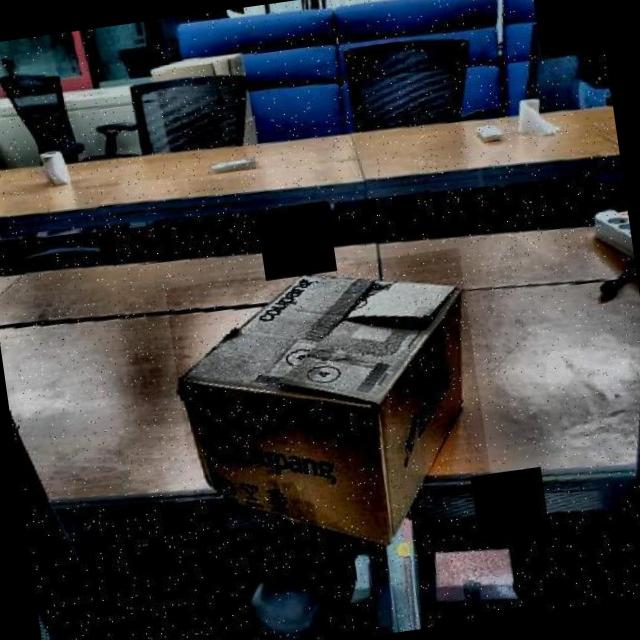box: (165, 248, 500, 582)
